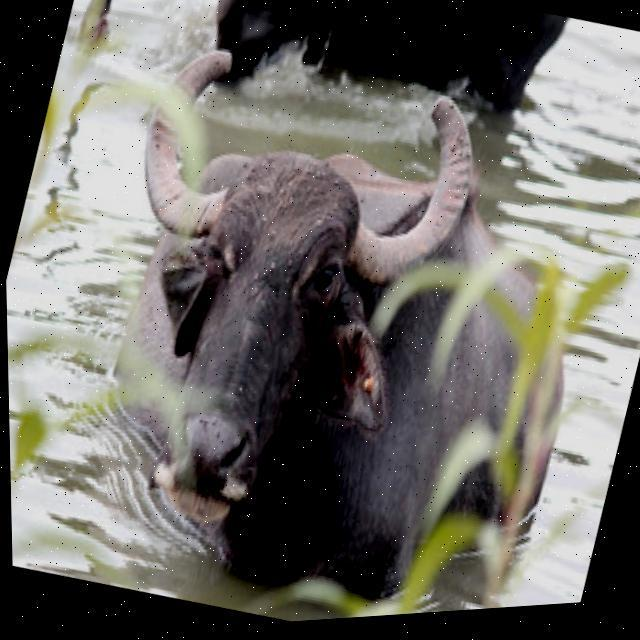Buffalo: (35, 1, 640, 638)
